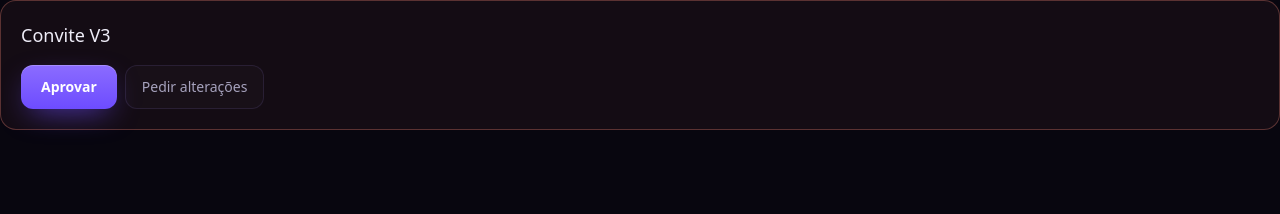
it: ApprovalCard — arte para produção › fora do Design (ex.: índice), aprova como antes
Click the button "Aprovar". click: {"x": 69, "y": 87}
box: [21,65,117,109]
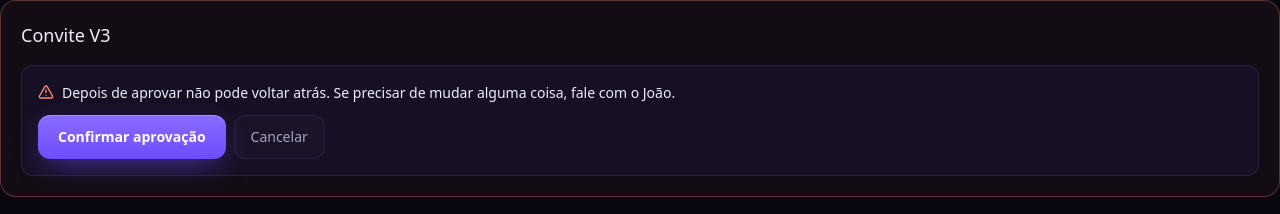
Result: the button "Confirmar aprovação" is shown at [38,115,226,159]
